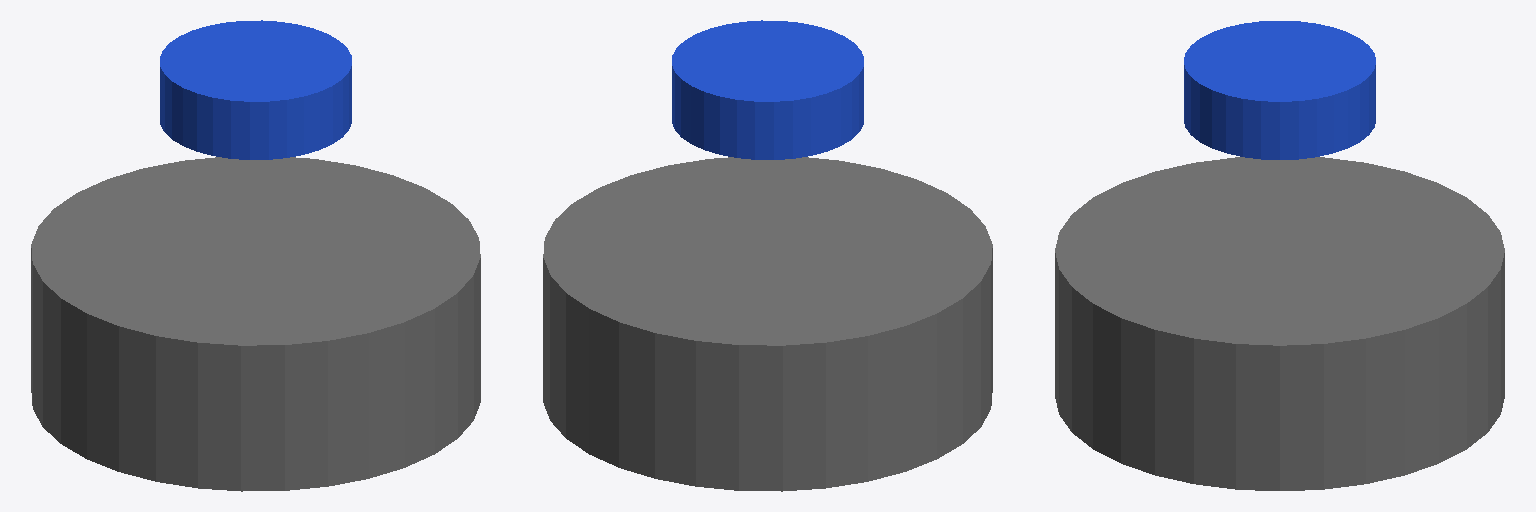
URDF robot description (inpipe_sensors):
<?xml version="1.0"?>
<robot name="inpipe_sensors" xmlns:xacro="http://www.ros.org/wiki/xacro">

  <!-- ================= Base ================= -->
  <link name="base_link">
    <inertial>
      <origin xyz="0 0 0" rpy="0 0 0"/>
      <mass value="1.0"/>
      <inertia ixx="0.002" ixy="0" ixz="0" iyy="0.002" iyz="0" izz="0.002"/>
    </inertial>
    <visual>
      <origin xyz="0 0 0" rpy="0 0 0"/>
      <geometry><cylinder radius="0.07" length="0.05"/></geometry>
      <material name="Gray"><color rgba="0.5 0.5 0.5 1"/></material>
    </visual>
    <collision>
      <origin xyz="0 0 0" rpy="0 0 0"/>
      <geometry><cylinder radius="0.07" length="0.05"/></geometry>
    </collision>
  </link>

  <!-- ================= LiDAR link ================= -->
  <link name="lidar_link">
    <inertial>
      <origin xyz="0 0 0" rpy="0 0 0"/>
      <mass value="0.3"/>
      <inertia ixx="0.0005" ixy="0" ixz="0" iyy="0.0005" iyz="0" izz="0.0005"/>
    </inertial>
    <visual>
      <origin xyz="0 0 0" rpy="0 0 0"/>
      <geometry><cylinder radius="0.03" length="0.02"/></geometry>
      <material name="Blue"><color rgba="0.2 0.4 0.9 1"/></material>
    </visual>
    <collision>
      <origin xyz="0 0 0" rpy="0 0 0"/>
      <geometry><cylinder radius="0.03" length="0.02"/></geometry>
    </collision>
  </link>

  <!-- Fixed joint from base to lidar -->
  <joint name="base_to_lidar" type="fixed">
    <parent link="base_link"/>
    <child link="lidar_link"/>
    <origin xyz="0 0 0.08" rpy="0 0 0"/>
  </joint>

  <!-- ================= Gazebo plugins / params ================= -->
  <!-- Use sim time -->
  <gazebo>
    <plugin name="ros_init" filename="libgazebo_ros_init.so"/>
    <plugin name="ros_factory" filename="libgazebo_ros_factory.so"/>
  </gazebo>

  <!-- VLP-16-like multi-ray sensor (publishes sensor_msgs/PointCloud2) -->
  <gazebo reference="lidar_link">
    <sensor name="vlp16_like" type="ray">
      <update_rate>10</update_rate> <!-- 10 Hz ~ 600 RPM -->
      <ray>
        <scan>
          <horizontal>
            <samples>1800</samples>     <!-- ~0.2° azimuth -->
            <resolution>1</resolution>
            <min_angle>-3.14159265359</min_angle>
            <max_angle> 3.14159265359</max_angle>
          </horizontal>
          <vertical>
            <samples>16</samples>       <!-- 16 rings -->
            <resolution>1</resolution>
            <min_angle>-0.2617993878</min_angle>  <!-- -15° -->
            <max_angle> 0.2617993878</max_angle>  <!-- +15° -->
          </vertical>
        </scan>
        <range>
          <min>0.1</min>
          <max>100.0</max>
          <resolution>0.01</resolution>
        </range>
        <noise>
          <type>gaussian</type>
          <mean>0.0</mean>
          <stddev>0.02</stddev>
        </noise>
      </ray>

      <plugin name="vlp16_ros" filename="libgazebo_ros_ray_sensor.so">
        <ros>
          <namespace>/inpipe_bot</namespace>
          <remapping>~/out:=/inpipe_bot/lidar/points</remapping>
        </ros>
        <output_type>sensor_msgs/PointCloud2</output_type>
        <frame_name>lidar_link</frame_name>
      </plugin>
    </sensor>
  </gazebo>

</robot>

--- Facts derived from the render (not from the file) ---
3 views of the same robot in one strip: view 1: azimuth 30°, elevation 25°; view 2: azimuth 150°, elevation 25°; view 3: azimuth 270°, elevation 25° (orthographic).
Model inpipe_sensors with 2 links and 1 joints (1 fixed), rooted at base_link, posed all joints at 0.
Visible links, largest first — view 1: base_link, lidar_link; view 2: base_link, lidar_link; view 3: base_link, lidar_link.
Link boxes in pixels (x1,y1,x2,y2): base_link: [31, 157, 480, 491]; lidar_link: [160, 20, 351, 159]; base_link: [543, 157, 992, 491]; lidar_link: [672, 20, 863, 159]; base_link: [1055, 157, 1504, 490]; lidar_link: [1184, 21, 1375, 159].
Bounding box of the posed robot: 0.14 × 0.14 × 0.115 m (x, y, z).
Geometry: primitives only (box / cylinder / sphere), no mesh files.
